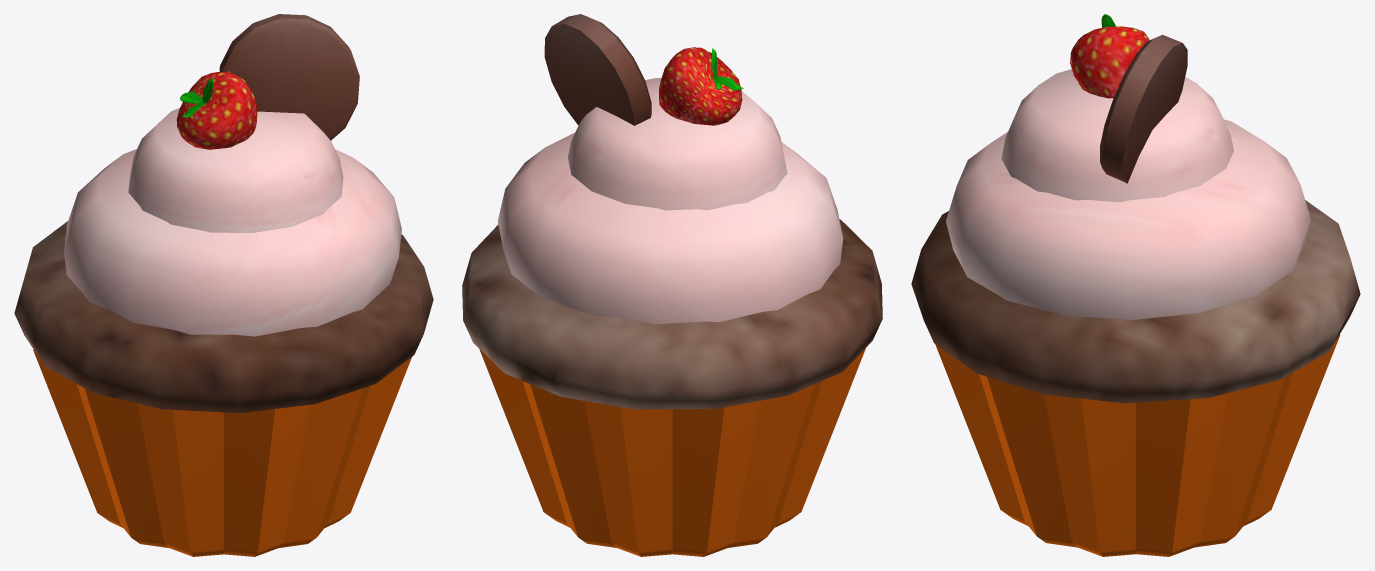
File: Cupcake_2.fbx
3 views of the same model, side by side, from view 1: azimuth 30°, elevation 25°; view 2: azimuth 150°, elevation 25°; view 3: azimuth 270°, elevation 25° (orthographic). The views are drawn at different scales.
Parts seen in each view (by area): view 1: Cupcake_2; view 2: Cupcake_2; view 3: Cupcake_2.
Part boxes in pixels (x1,y1,x2,y2): Cupcake_2: [14, 14, 433, 556]; Cupcake_2: [462, 14, 882, 556]; Cupcake_2: [911, 14, 1360, 556].
Bounding box in the file's own units: 10.98 × 13.51 × 10.98.
